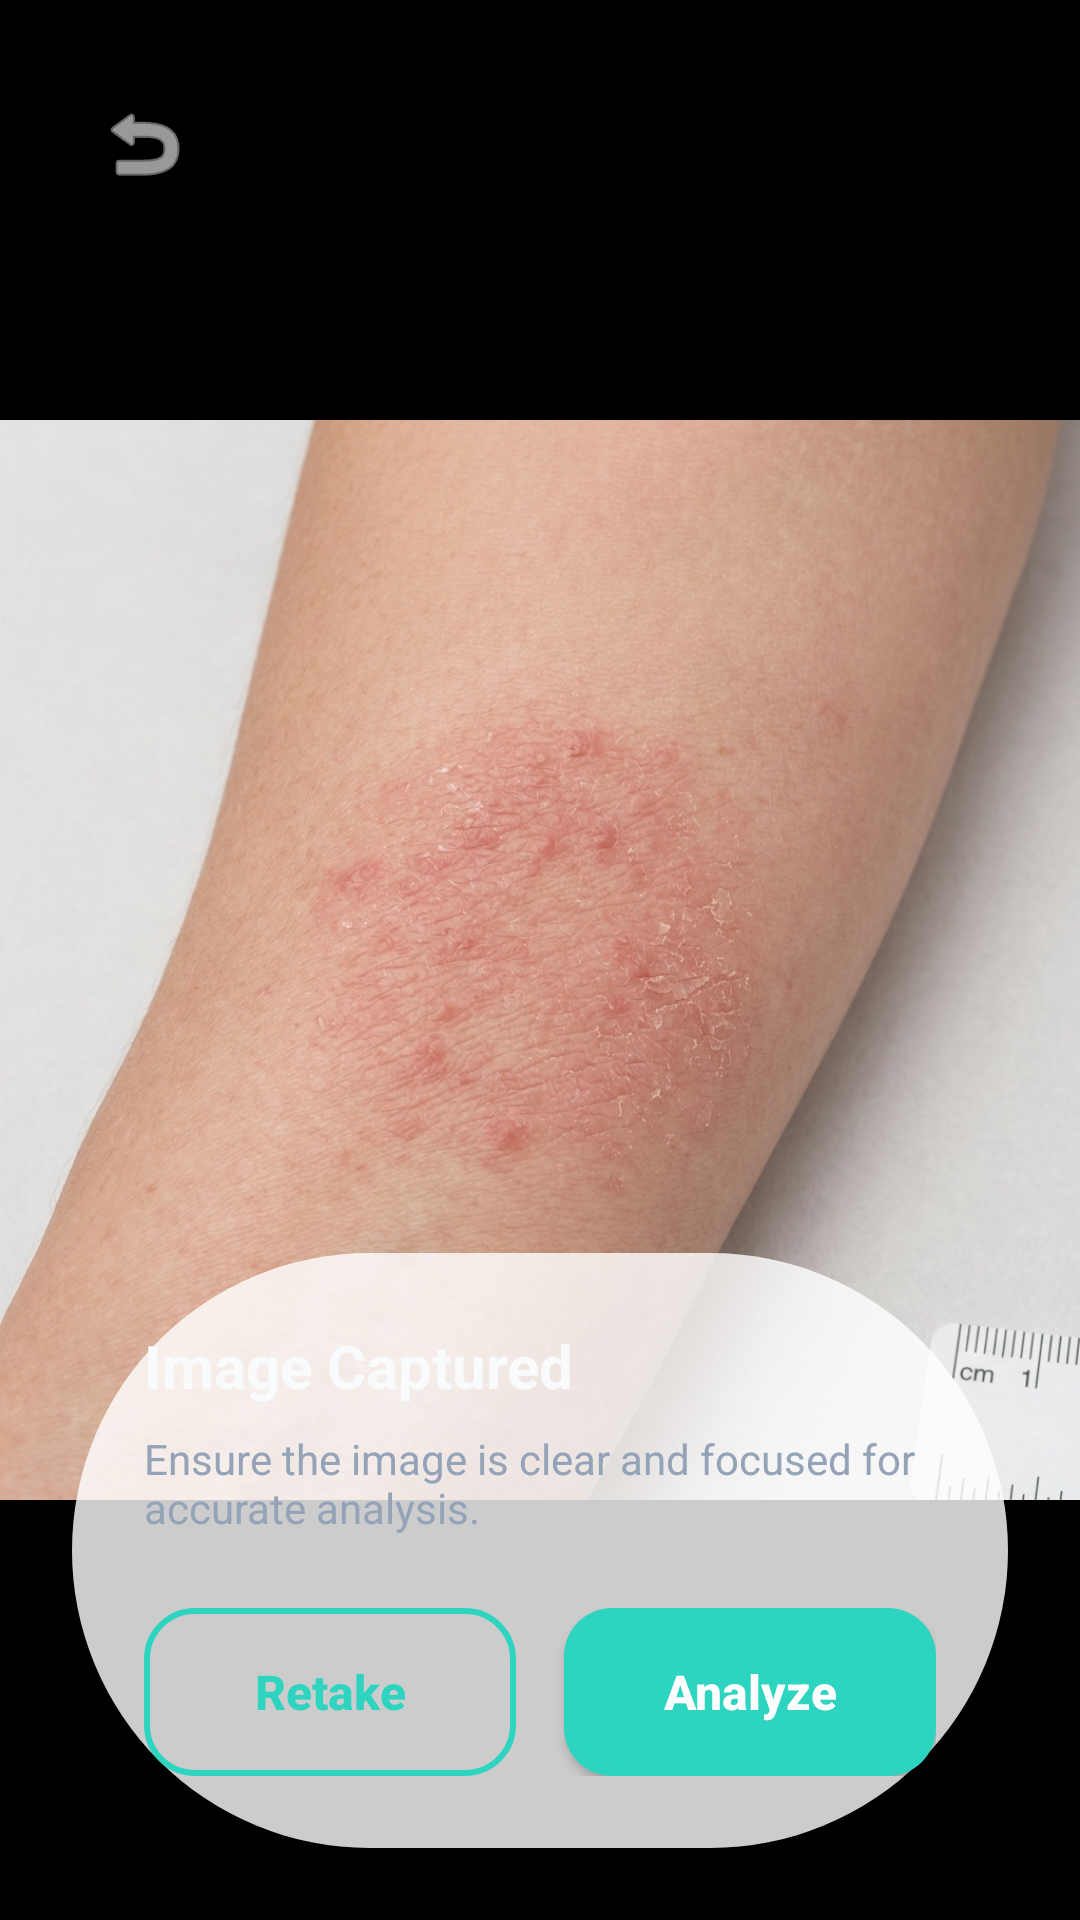

Where icons sit on this 1080px×1920px app screen, as (x1, y1, x2, y2):
revert: (111, 113, 180, 176)
